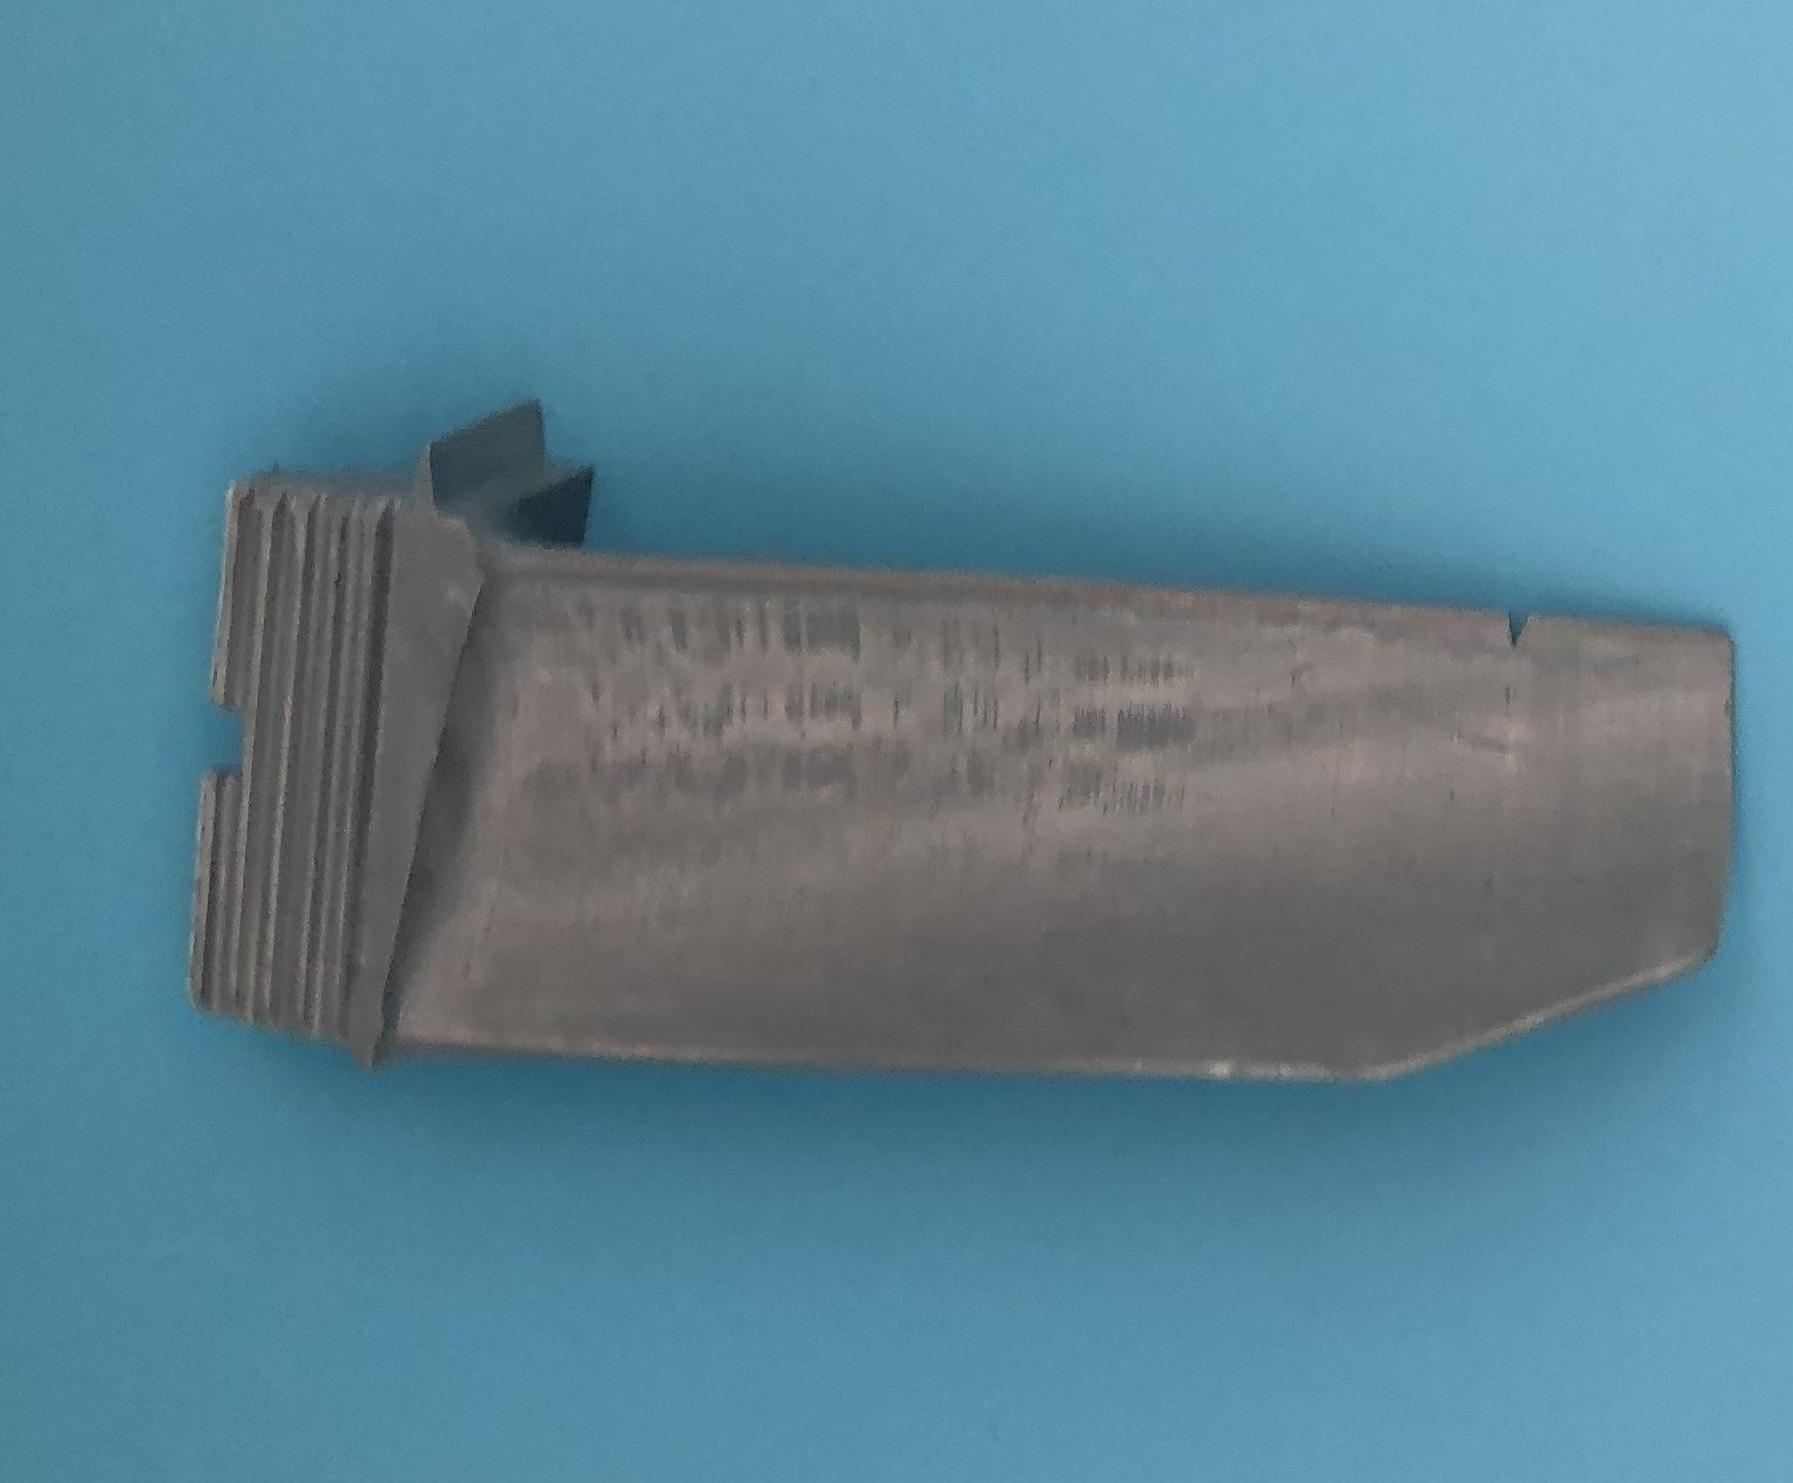groove: (1488, 602, 1559, 655)
